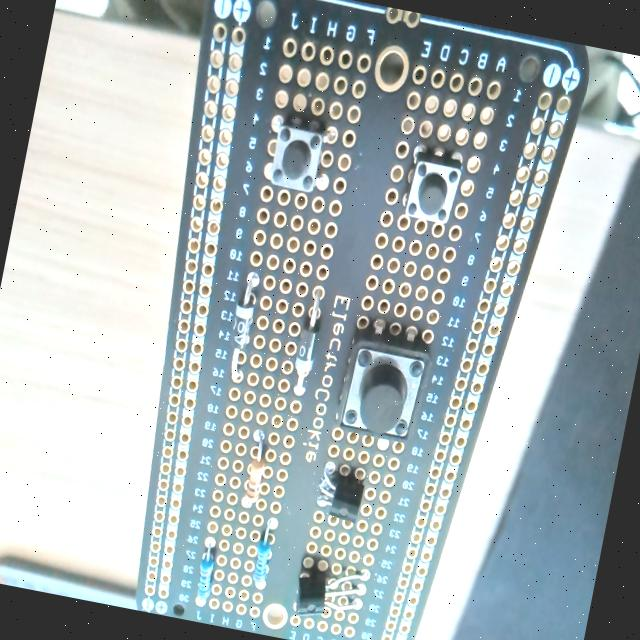diode: (216, 269, 268, 386), (280, 296, 332, 399)
resistor: (230, 432, 278, 522), (244, 520, 284, 591), (187, 538, 223, 609)
switch: (323, 328, 448, 459), (264, 120, 332, 196), (402, 149, 466, 228)
transistor: (282, 559, 364, 632), (301, 467, 381, 532)
